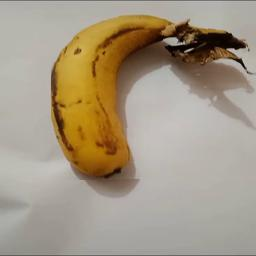Banana Semifresh: (51, 11, 249, 181)
